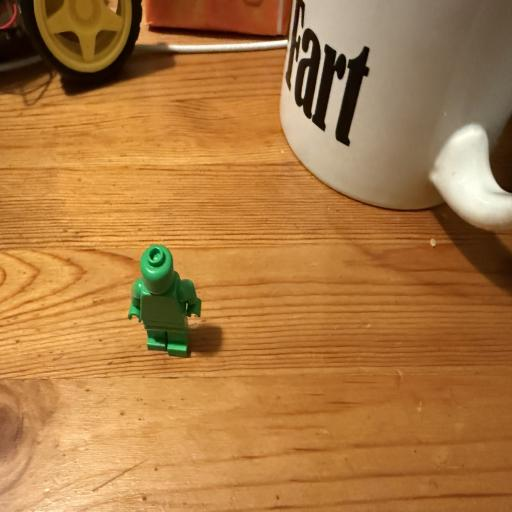Minifig: (128, 245, 201, 356)
